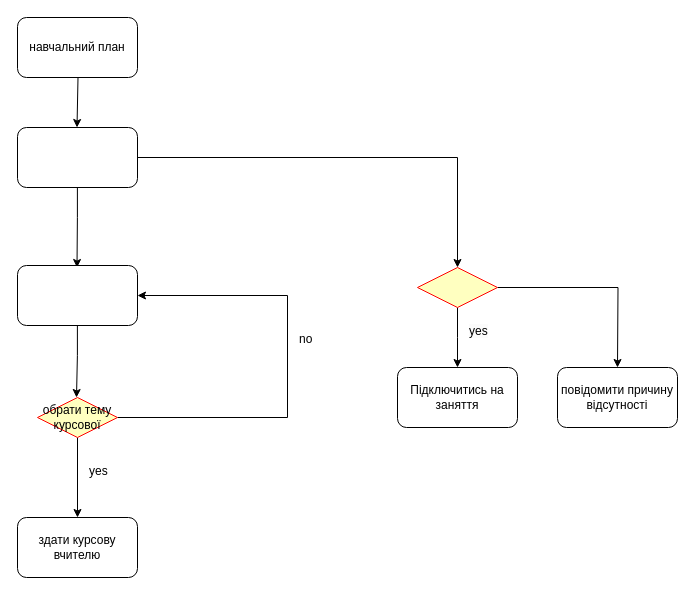
Some shapes in this 695 by 595 pixel diagram are drawn without their labels. Here are the shapes that lost their labels. From the top down, the centre of each, then its label:
(77,157): Студенти
(77,295): Обрати курсову
(457,287): прийти на пару
